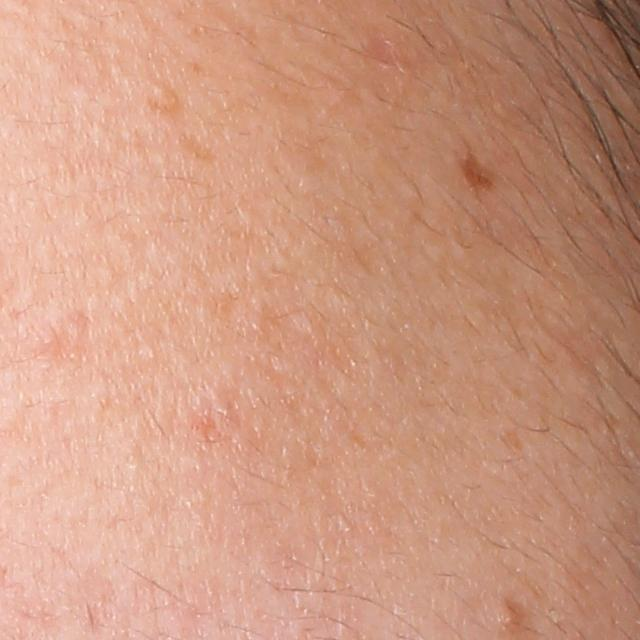comedo: (496, 603, 521, 631)
